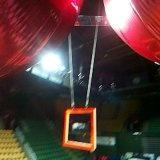Orange_Square_GShape: (64, 108, 96, 149)
